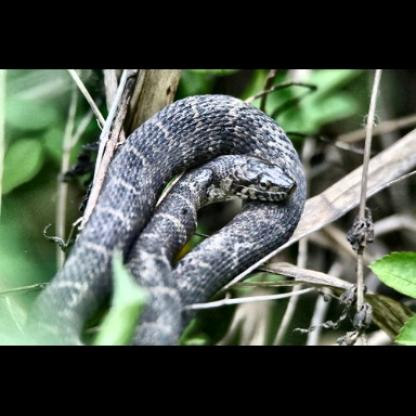Snake: (86, 87, 326, 289)
